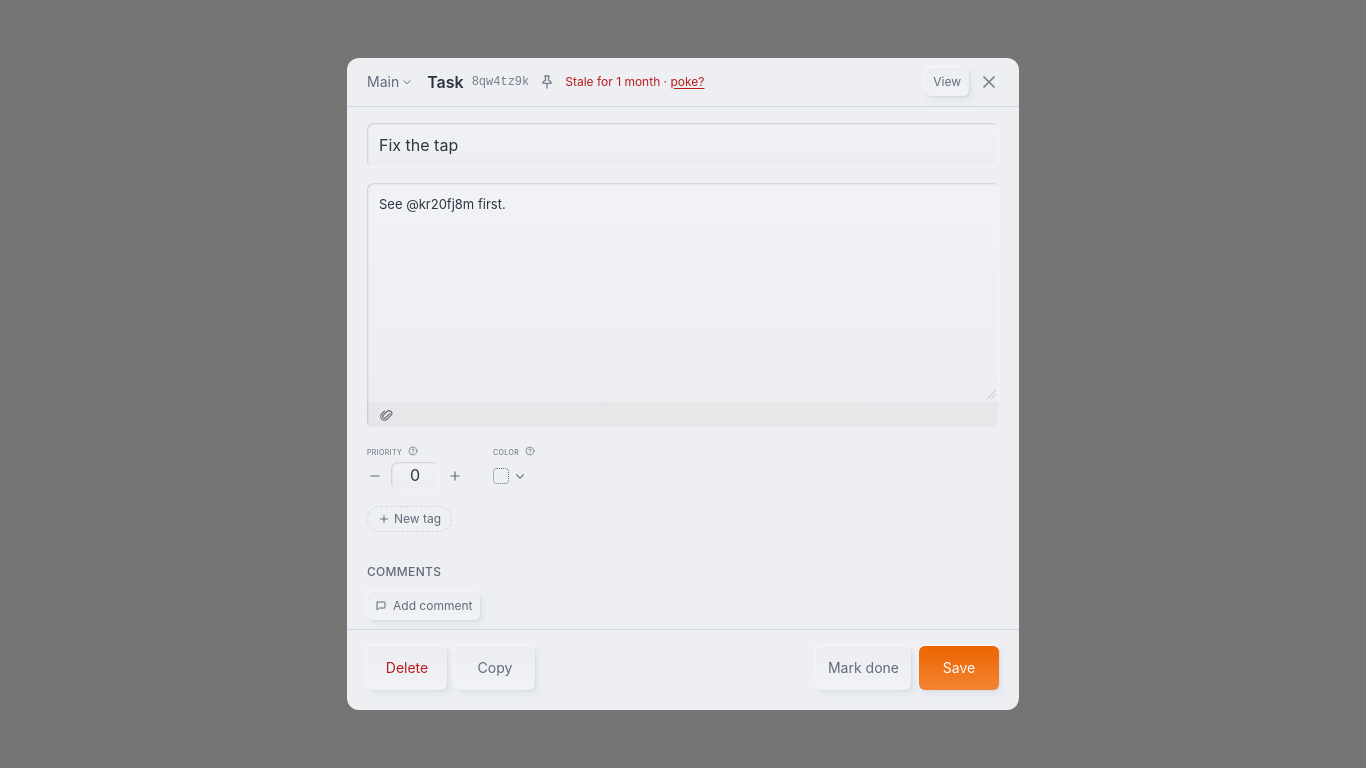
Test case: a mention › opens the same way from a chip in the description
The image size is (1366, 768).
What coordinates should you click on to do the following:
click the button "View"
I would click on:
 (947, 82)
Its box is [925, 68, 969, 96].
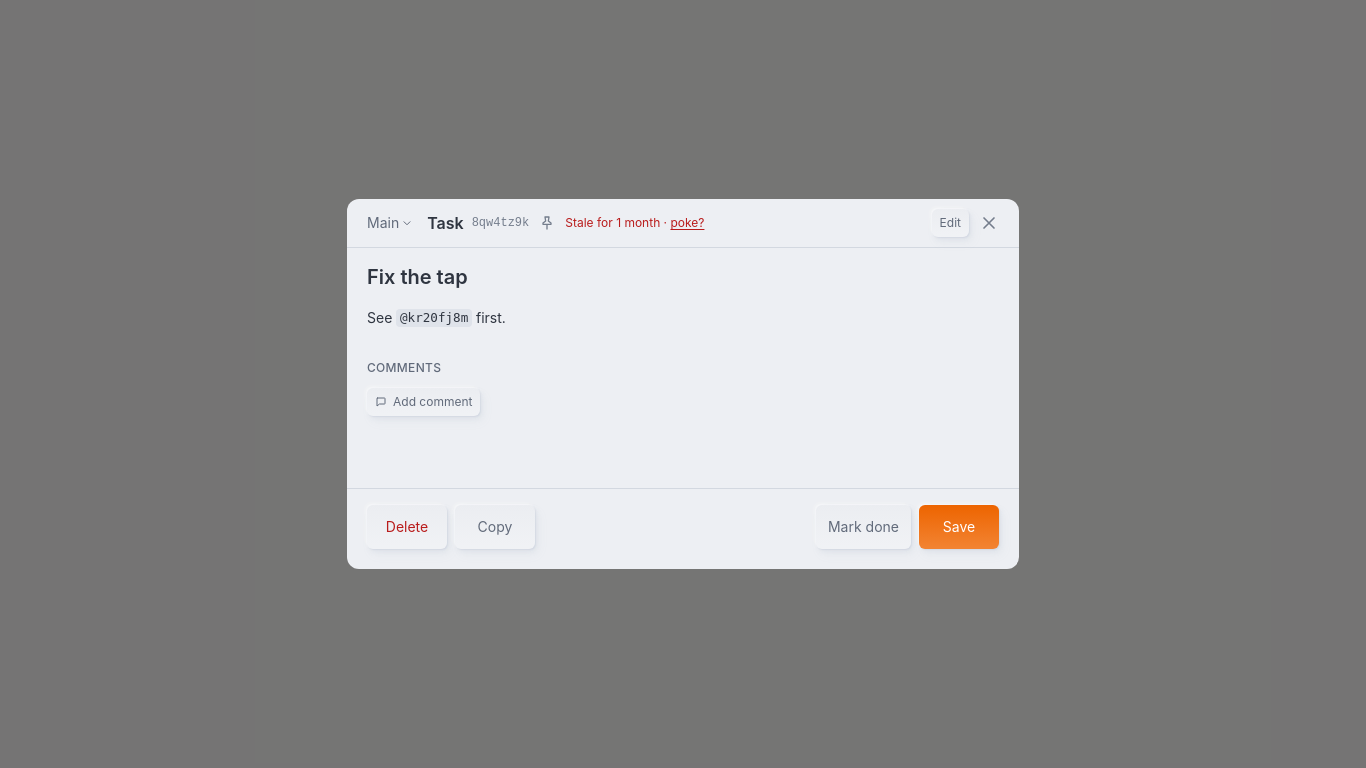
What coordinates should you click on to do the following:
click the link with class "mention"
I would click on:
 (434, 318)
Its box is [396, 309, 472, 327].
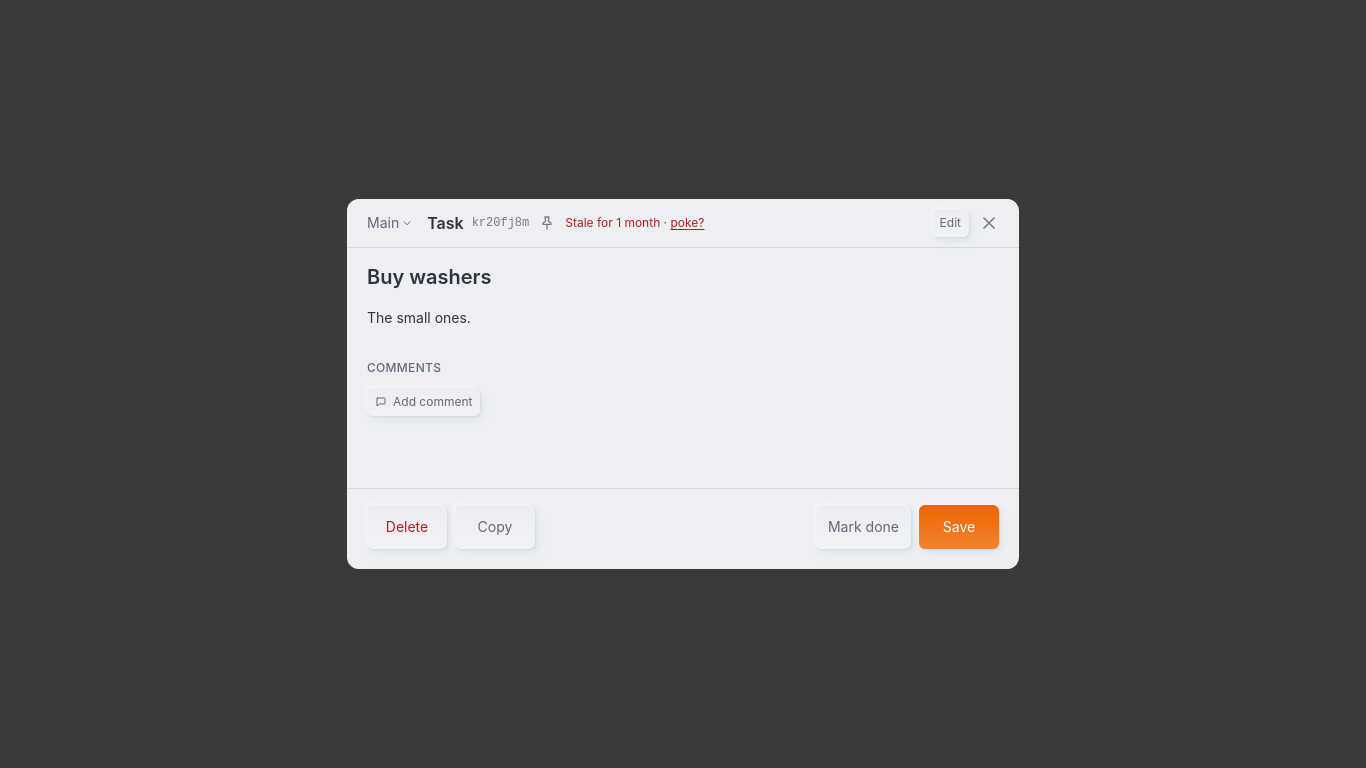
Result: the heading "Buy washers" is shown at [367, 265, 492, 289]
